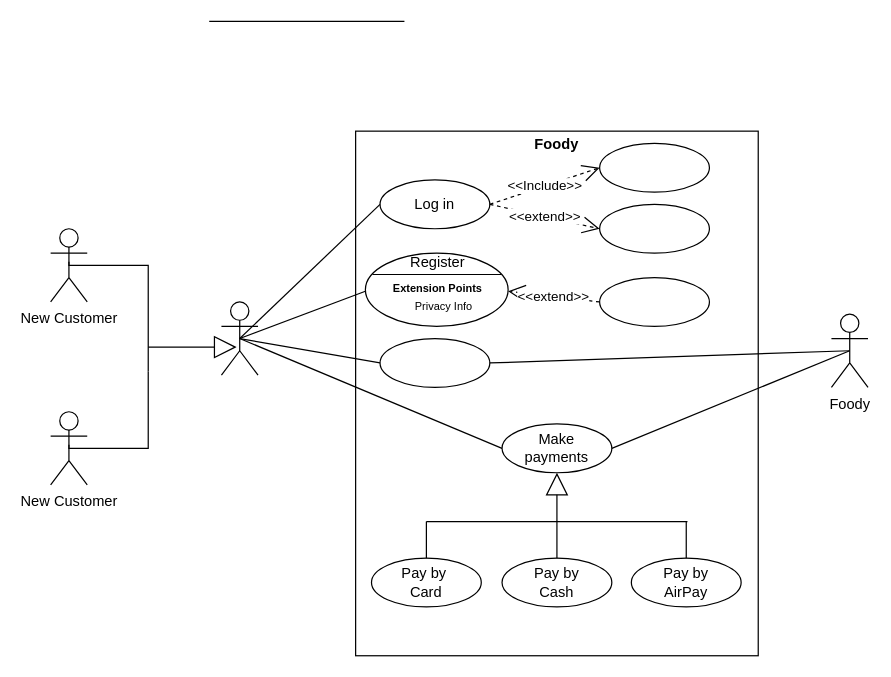
Some shapes in this 891 by 677 pixel diagram are drawn without their labels. The box of each missing label's shape, as (x1, y1, x2, y2) in pixels:
Check user/pass: (598, 142, 709, 192)
Customer: (220, 301, 258, 375)
Order food: (379, 337, 490, 387)
Show error: (598, 203, 709, 253)
Show Privacy: (598, 276, 709, 326)
